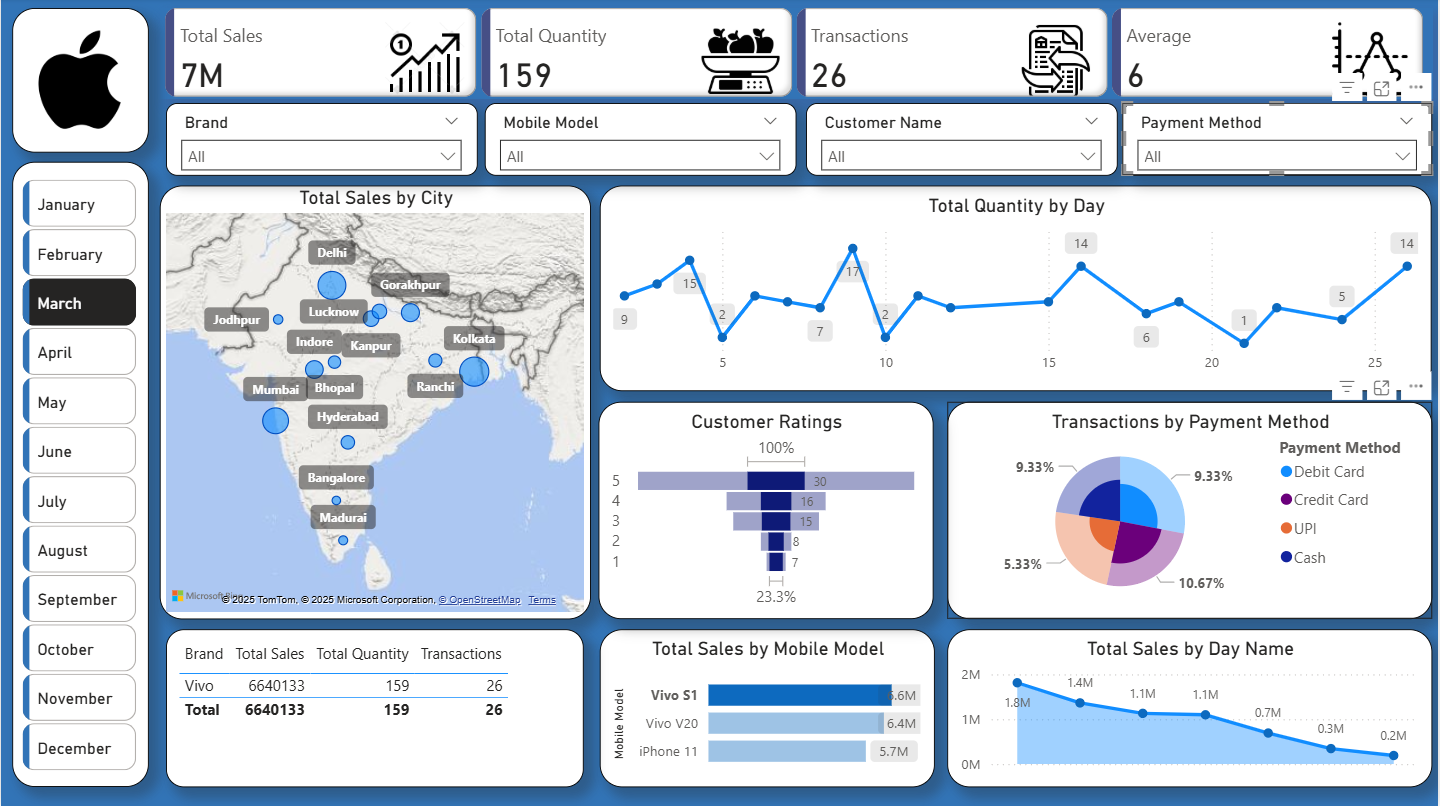

The page's visual inventory and layout, read from the dashboard file:
{"tool":"powerbi","page":{"name":"Page 1","canvas":[1280,720],"ordinal":0},"visuals":[{"type":"image","box":[0,0,141.1,146],"z":0},{"type":"shape","box":[9.8,8.6,121.5,128.8],"z":1000},{"type":"shape","box":[9.8,146,121.5,557.1],"z":2000},{"type":"advancedSlicerVisual","fields":{"Values":["Sales_Data.Date.Variation.Date Hierarchy.Month"]},"box":[14.7,157.1,111.7,546],"z":3000},{"type":"cardVisual","fields":{"Data":["Sales_Data.Total Sales","Sales_Data.Total Quantity","Sales_Data.Transactions","Sales_Data.Average"]},"box":[141.1,8.6,1133.7,81],"z":4000},{"type":"image","box":[4.9,22.1,131.3,100.6],"z":5000},{"type":"map","fields":{"Category":["Sales_Data.City"],"Size":["Sales_Data.Total Sales"]},"box":[141.1,166.9,384.1,386.5],"z":6000},{"type":"lineChart","fields":{"Y":["Sales_Data.Total Quantity"],"Category":["Sales_Data.Date.Variation.Date Hierarchy.Month","Sales_Data.Date.Variation.Date Hierarchy.Day"]},"box":[533.7,166.9,741.1,182.8],"z":7000},{"type":"barChart","fields":{"Category":["Sales_Data.Mobile Model"],"Y":["Sales_Data.Total Sales"]},"box":[533.7,562,298.2,141.1],"z":8000},{"type":"pieChart","fields":{"Category":["Sales_Data.Payment Method"],"Y":["Sales_Data.Transactions"]},"box":[842.9,359.5,431.9,193.9],"z":9000},{"type":"funnel","title":"Customer Ratings","fields":{"Category":["Sales_Data.Customer Ratings"],"Y":["Sum(Sales_Data.Customer Ratings)"]},"box":[532.5,359.5,298.2,193.9],"z":10000},{"type":"areaChart","fields":{"Category":["Sales_Data.Day Name"],"Y":["Sales_Data.Total Sales"]},"box":[842.9,562,431.9,141.1],"z":11000},{"type":"tableEx","fields":{"Values":["Sales_Data.Brand","Sales_Data.Total Sales","Sales_Data.Total Quantity","Sales_Data.Transactions"]},"box":[147.2,562,371.8,141.1],"z":12000},{"type":"slicer","fields":{"Values":["Sales_Data.Brand"]},"box":[147.2,93.3,277.3,65],"z":13000},{"type":"slicer","fields":{"Values":["Sales_Data.Mobile Model"]},"box":[430.7,93.3,277.3,65],"z":14000},{"type":"slicer","fields":{"Values":["Sales_Data.Customer Name"]},"box":[716.6,93.3,277.3,65],"z":15000},{"type":"slicer","fields":{"Values":["Sales_Data.Payment Method"]},"box":[998.8,93.3,276.1,65],"z":16000}]}

Visuals, with their boxes in screenshot pixels (x1, y1, x2, y2), scaled from the page's 1280x720 canvas onto the 1440x806 screenshot:
image: (x1=0, y1=0, x2=159, y2=163)
shape: (x1=11, y1=10, x2=148, y2=154)
shape: (x1=11, y1=163, x2=148, y2=787)
advancedSlicerVisual - Sales_Data.Date.Variation.Date Hierarchy.Month: (x1=17, y1=176, x2=142, y2=787)
cardVisual - Sales_Data.Total Sales x Sales_Data.Total Quantity: (x1=159, y1=10, x2=1434, y2=100)
image: (x1=6, y1=25, x2=153, y2=137)
map - Sales_Data.City x Sales_Data.Total Sales: (x1=159, y1=187, x2=591, y2=620)
lineChart - Sales_Data.Total Quantity x Sales_Data.Date.Variation.Date Hierarchy.Month: (x1=600, y1=187, x2=1434, y2=391)
barChart - Sales_Data.Mobile Model x Sales_Data.Total Sales: (x1=600, y1=629, x2=936, y2=787)
pieChart - Sales_Data.Payment Method x Sales_Data.Transactions: (x1=948, y1=402, x2=1434, y2=620)
"Customer Ratings" funnel: (x1=599, y1=402, x2=935, y2=620)
areaChart - Sales_Data.Day Name x Sales_Data.Total Sales: (x1=948, y1=629, x2=1434, y2=787)
tableEx - Sales_Data.Brand x Sales_Data.Total Sales: (x1=166, y1=629, x2=584, y2=787)
slicer - Sales_Data.Brand: (x1=166, y1=104, x2=478, y2=177)
slicer - Sales_Data.Mobile Model: (x1=485, y1=104, x2=796, y2=177)
slicer - Sales_Data.Customer Name: (x1=806, y1=104, x2=1118, y2=177)
slicer - Sales_Data.Payment Method: (x1=1124, y1=104, x2=1434, y2=177)
